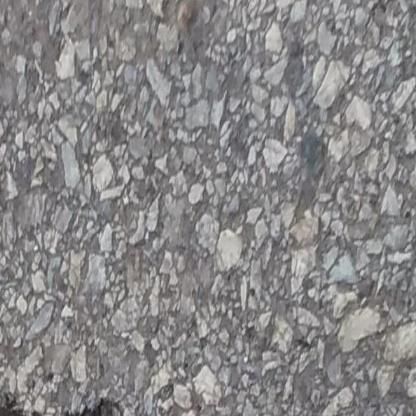Cracks: (0, 346, 135, 416)
